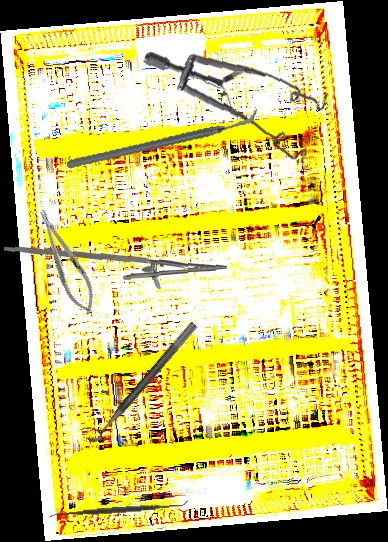Chopper: (66, 78, 260, 199)
Fixation Ring: (78, 312, 199, 447)
Needle Holder: (4, 238, 228, 295), (29, 204, 104, 320)
Spatula Surgical: (49, 497, 189, 522)
Speculum: (142, 38, 334, 175)
